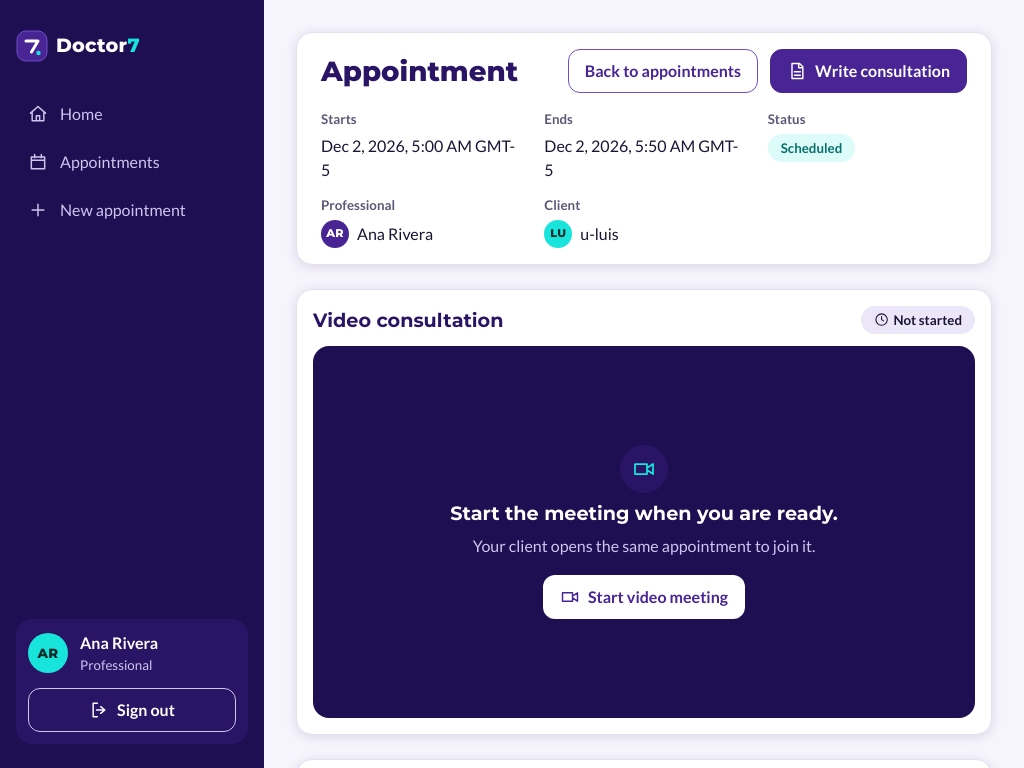
Scenario: Video › shows the API problem and lets the professional start again
The image size is (1024, 768).
Click the button "Start video meeting": (644, 597) left=543, top=575, right=745, bottom=619
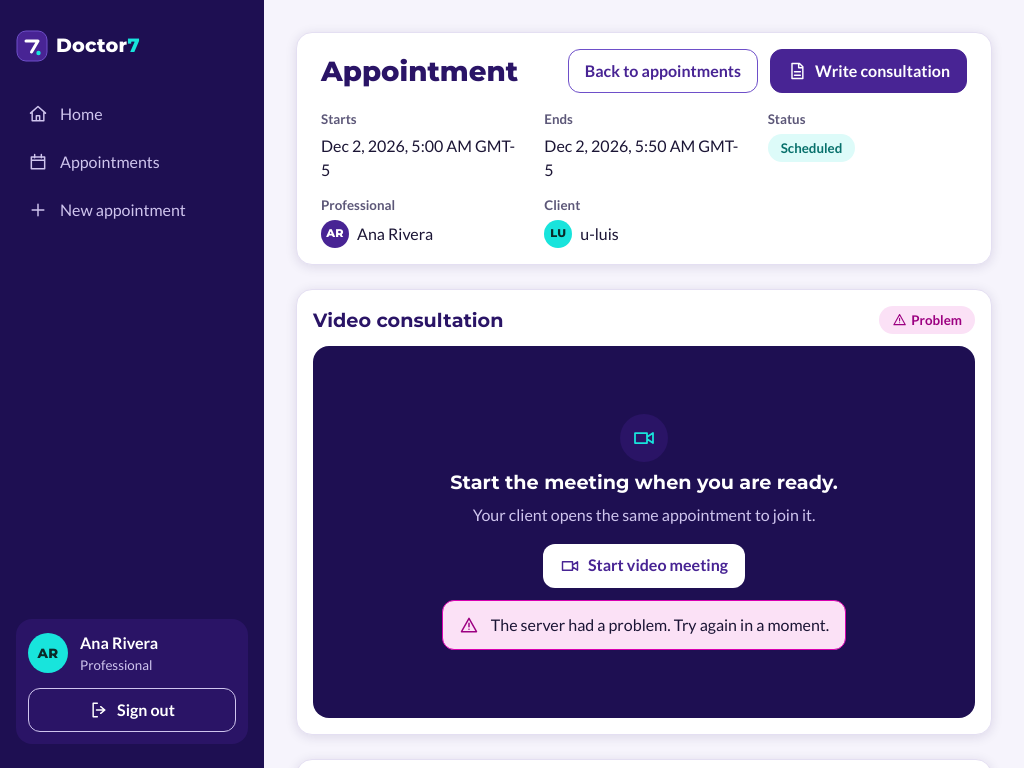
Expected: the button "Start video meeting" is enabled, left=543, top=544, right=745, bottom=588
Expected: the message shows "The server had a problem", left=491, top=615, right=829, bottom=634
